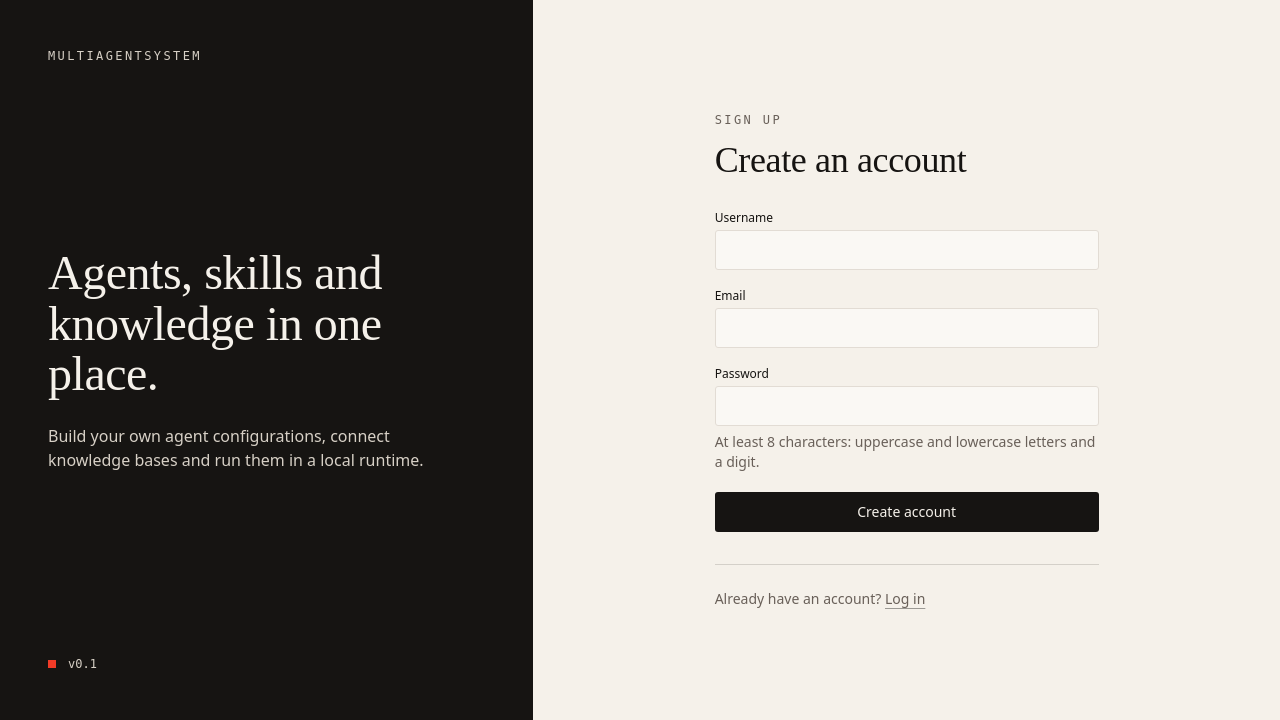
Test: signup page › shows a backend business error as a general message
The width and height of the screenshot is (1280, 720).
In the field labelled "Username": (907, 250) x1=715 y1=230 x2=1099 y2=270, type "alice"
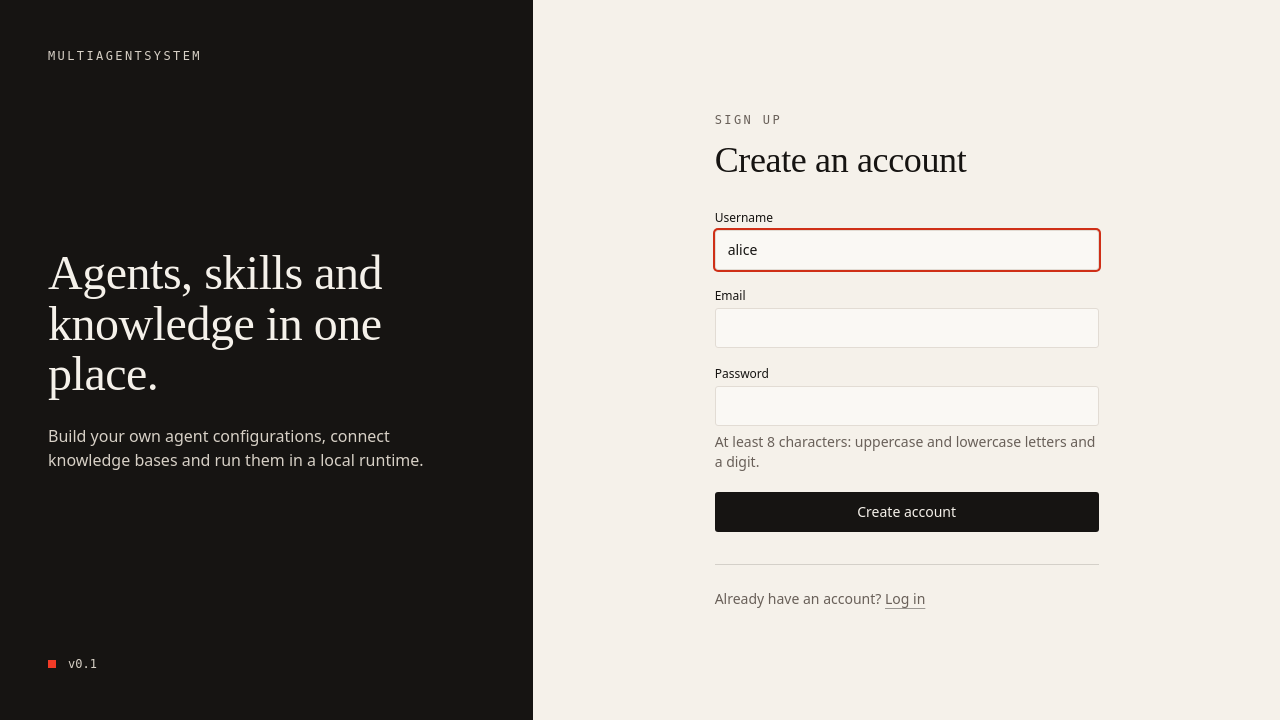
In the field labelled "Email": (907, 328) x1=715 y1=308 x2=1099 y2=348, type "alice@example.com"
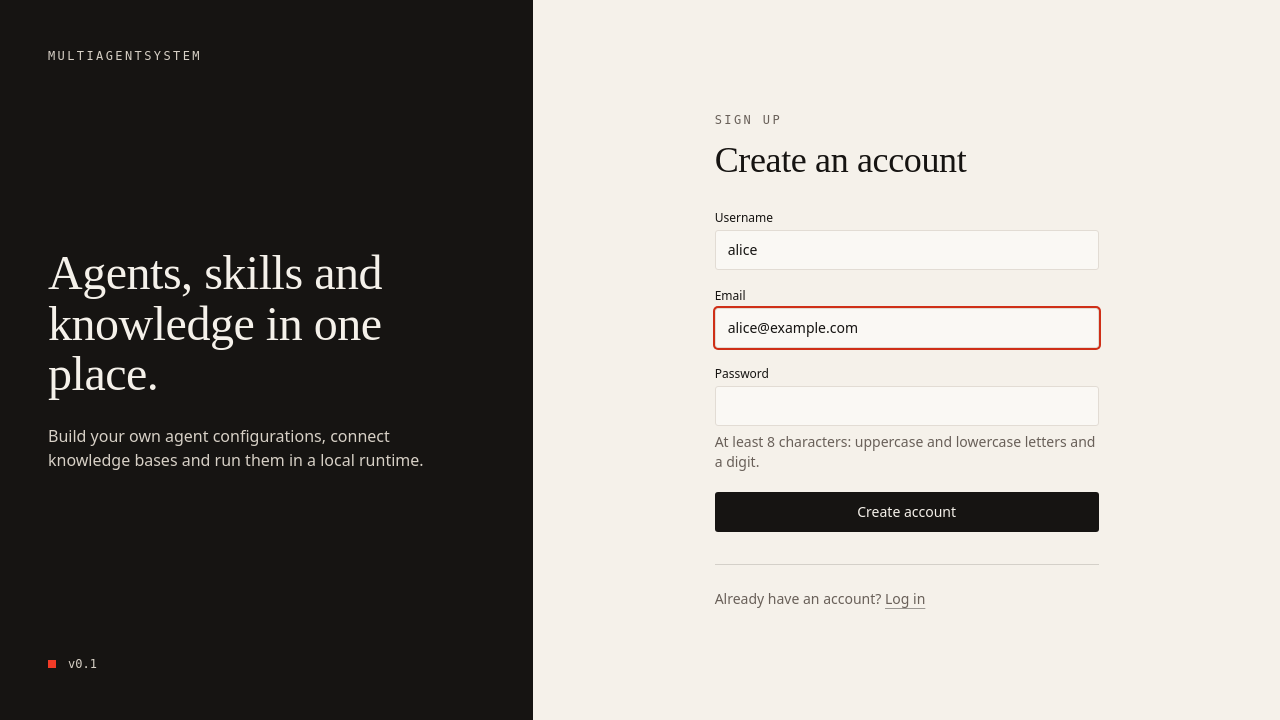
In the password field labelled "Password": (907, 406) x1=715 y1=386 x2=1099 y2=426, type "Passw0rdAA"
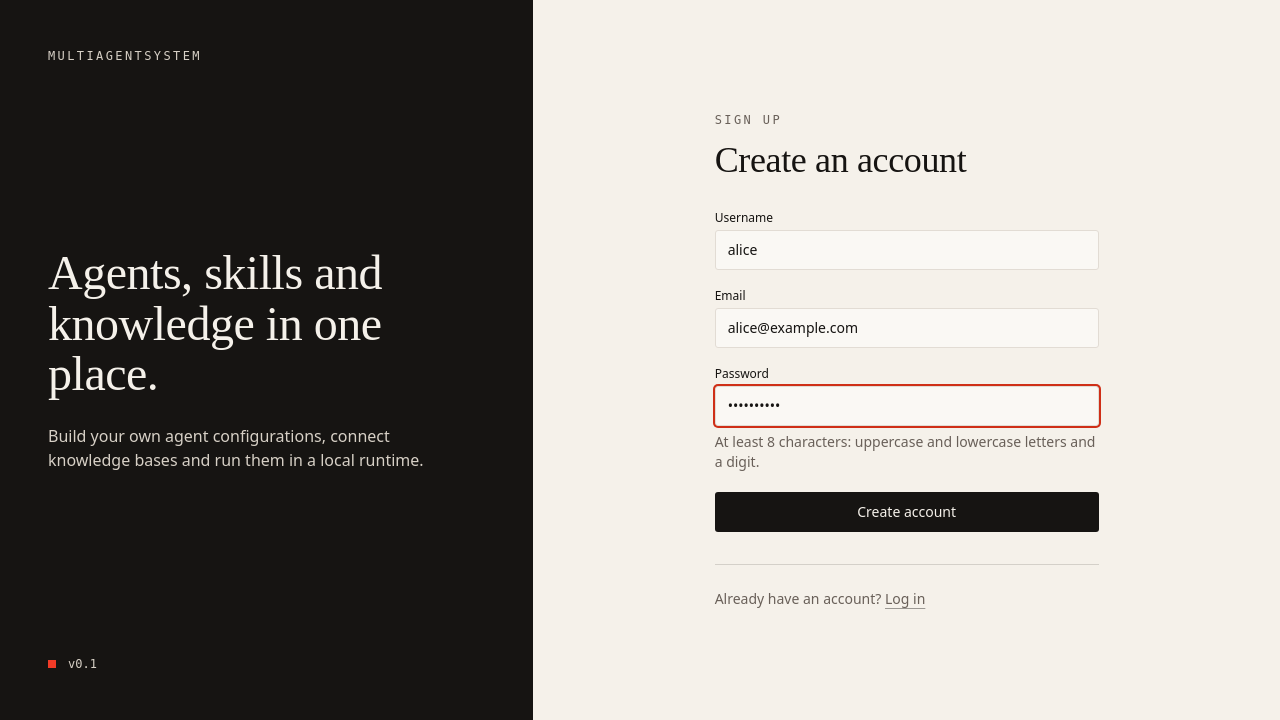
Click the button "Create account": (907, 512) x1=715 y1=492 x2=1099 y2=532
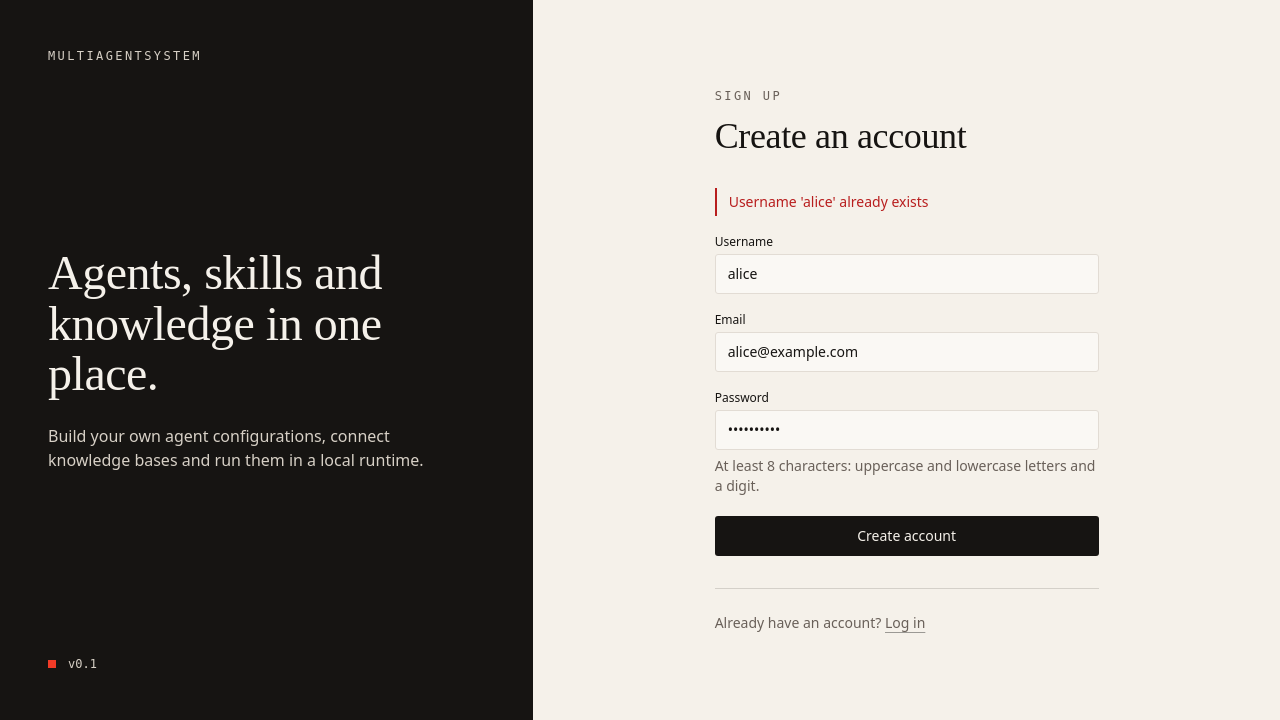
Check: the message reads "Username 'alice' already exists", box x1=729 y1=192 x2=929 y2=210
